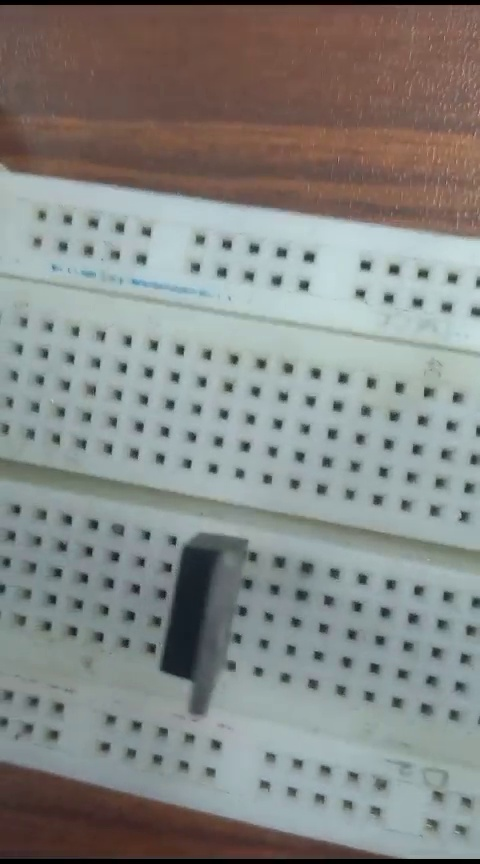voltage regulator: (152, 527, 250, 716)
